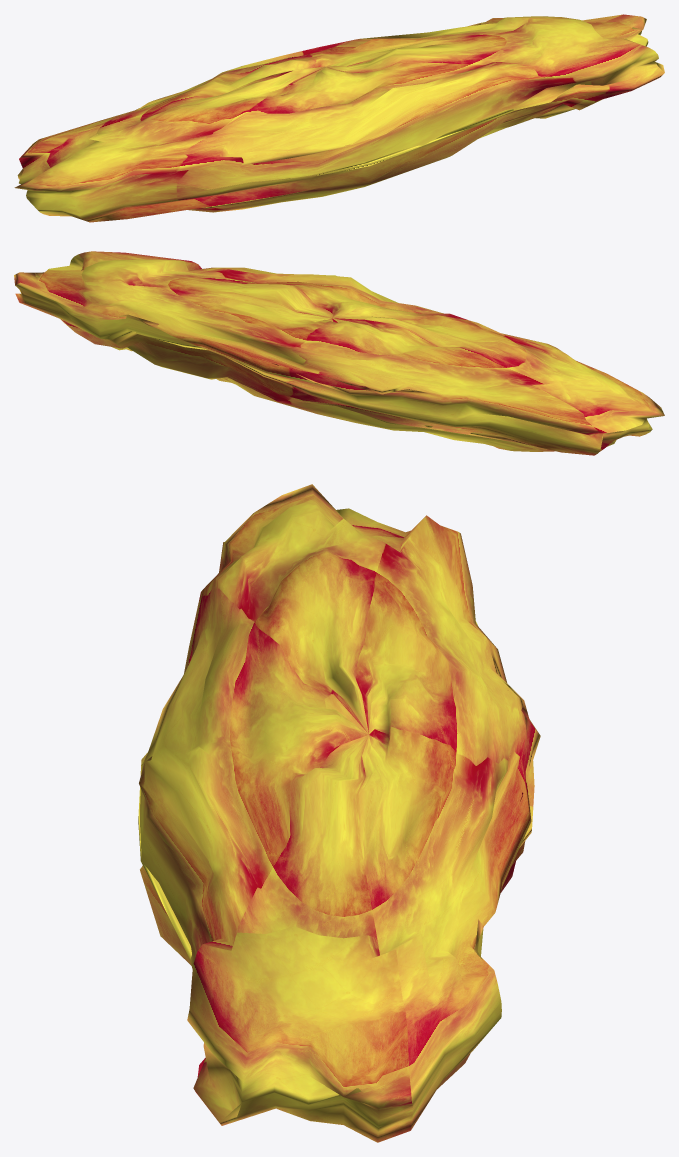
File: nube.obj
The picture shows the model from 3 angles, top to bottom: view 1: azimuth 30°, elevation 25°; view 2: azimuth 150°, elevation 25°; view 3: azimuth 270°, elevation 25°; orthographic projection. The views are drawn at different scales.
Parts seen in each view (by area): view 1: pSphere1; view 2: pSphere1; view 3: pSphere1.
Boxes of the visible parts, box(x1,y1,x2,y2) form: pSphere1: box(14, 14, 664, 222); pSphere1: box(14, 251, 664, 455); pSphere1: box(138, 484, 540, 1142).
Size of the model in its own units: 1846 by 267 by 507.
2 materials, 1 textured.
